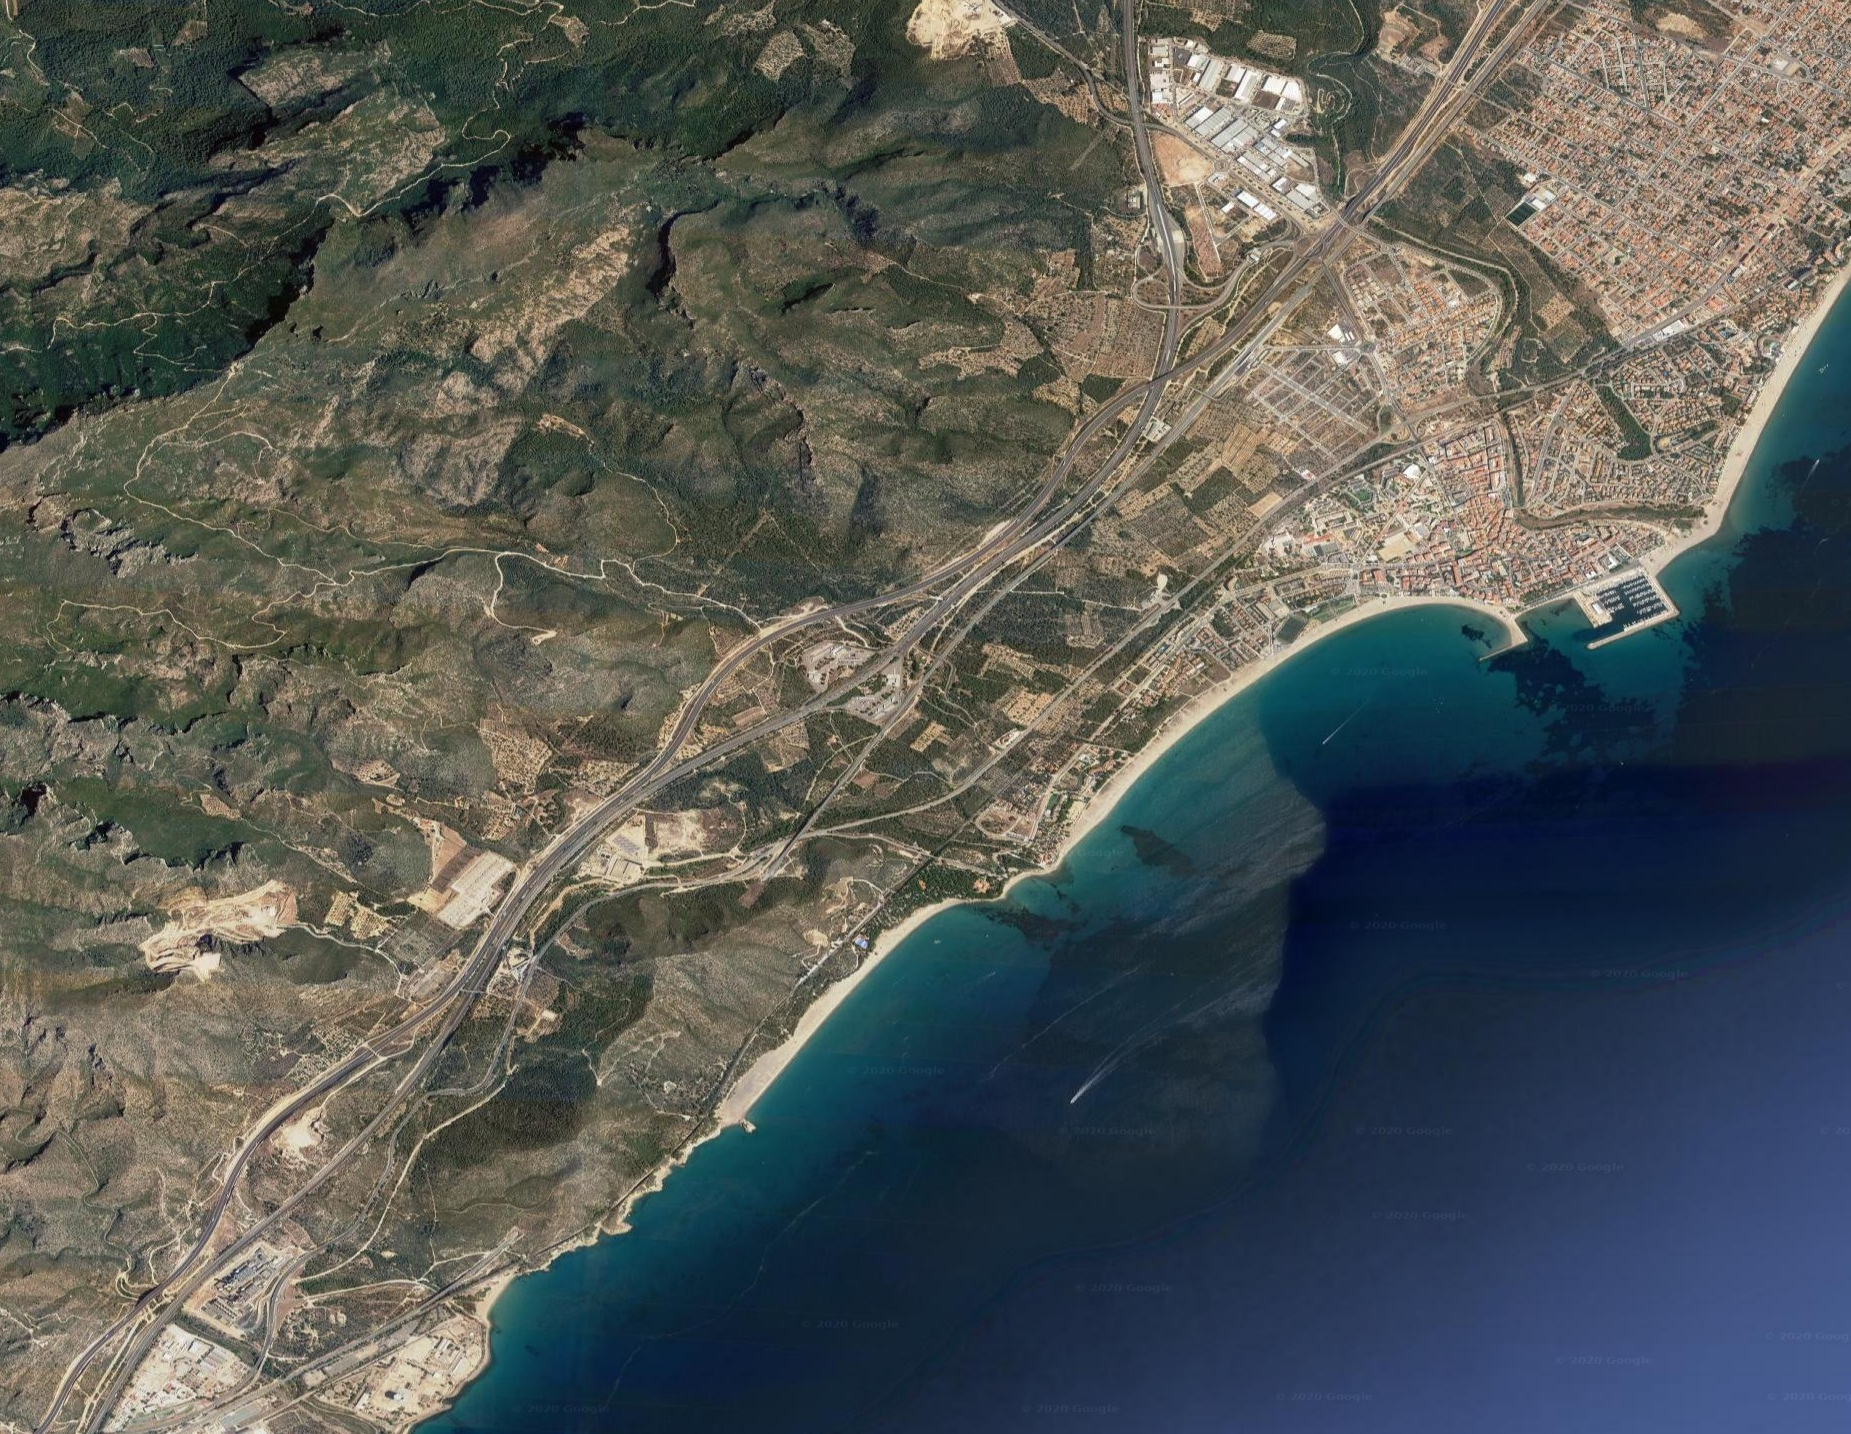harbor: (1480, 552, 1693, 685)
motorway: (403, 580, 889, 1045), (20, 1036, 409, 1434), (889, 257, 1271, 607), (1071, 2, 1502, 301)
